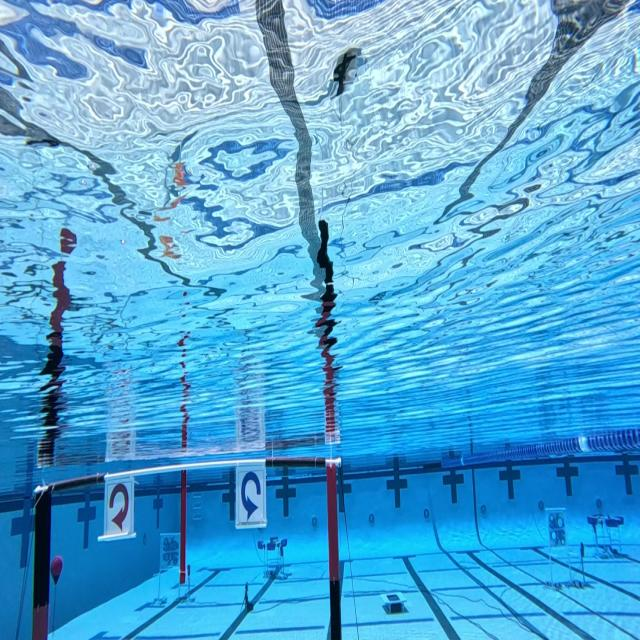blue_side: (235, 460, 268, 528)
red_side: (103, 473, 136, 542)
